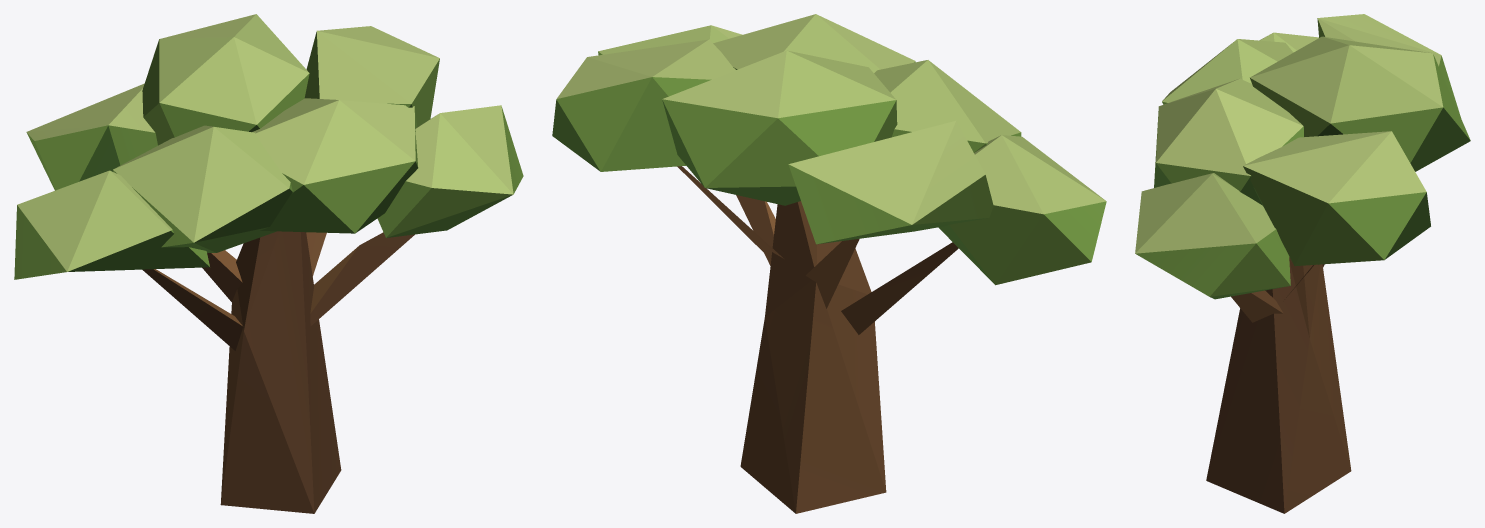
The picture shows the model from 3 angles, left to right: view 1: azimuth 30°, elevation 25°; view 2: azimuth 150°, elevation 25°; view 3: azimuth 270°, elevation 25°; orthographic projection. The views are drawn at different scales.
Parts seen in each view (by area): view 1: WK_Tree_Oak_SpringBroad_LOD2_Compact; view 2: WK_Tree_Oak_SpringBroad_LOD2_Compact; view 3: WK_Tree_Oak_SpringBroad_LOD2_Compact.
Boxes of the visible parts, x1,y1,x2,y2 form: WK_Tree_Oak_SpringBroad_LOD2_Compact: [14, 14, 523, 513]; WK_Tree_Oak_SpringBroad_LOD2_Compact: [552, 14, 1106, 513]; WK_Tree_Oak_SpringBroad_LOD2_Compact: [1135, 14, 1470, 513].
Size of the model in its own units: 5.86 by 5.08 by 3.58.
